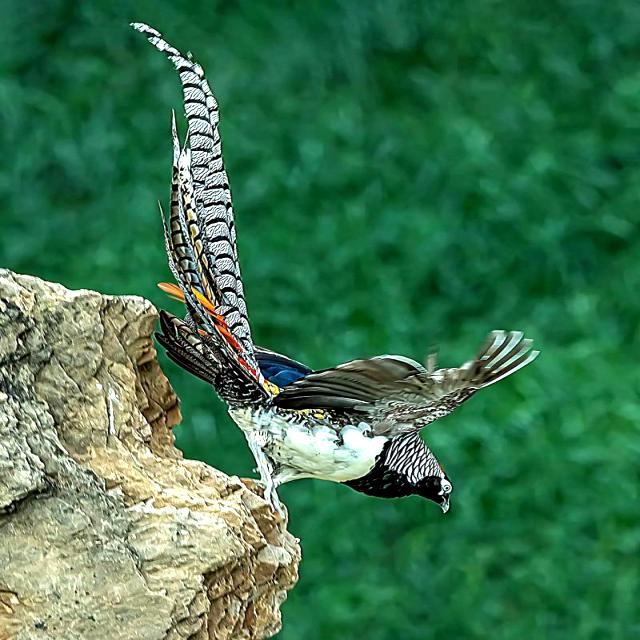Chrysolophus amherstiae: (131, 23, 259, 375)
